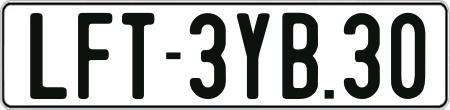0: (389, 11, 429, 98)
3: (344, 13, 383, 102), (190, 11, 228, 100)
B: (280, 12, 318, 104)
F: (78, 11, 117, 101)
L: (30, 10, 71, 99)
T: (120, 10, 154, 101)
Y: (237, 10, 273, 102)
